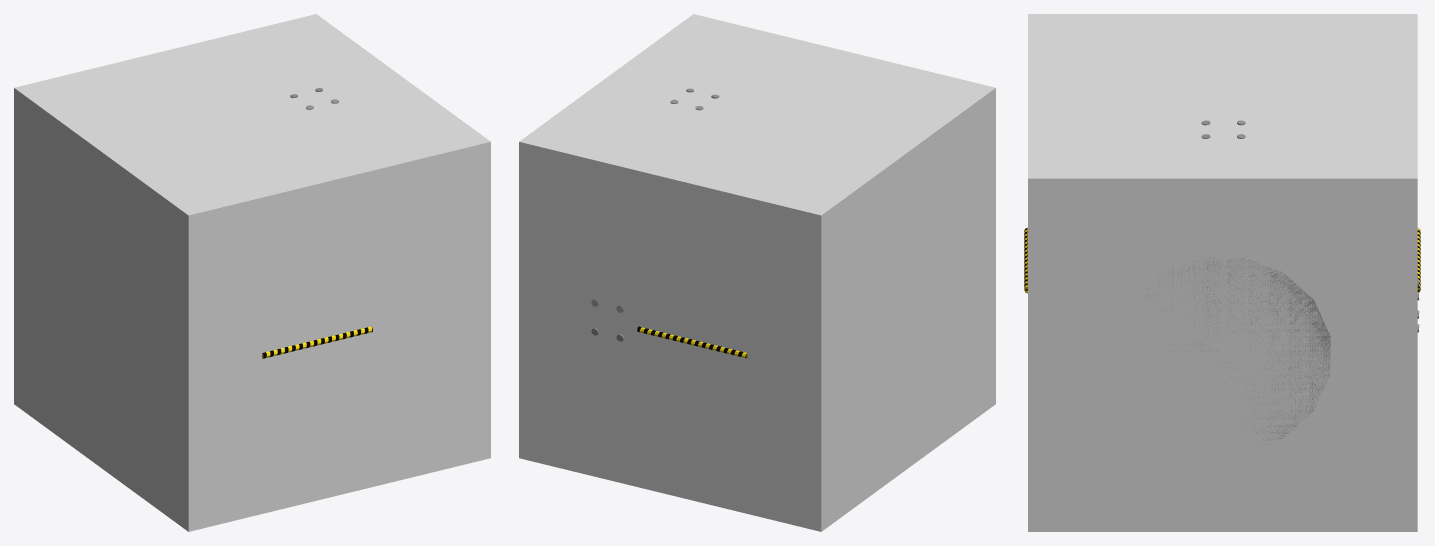
File: Module-1.glb
The picture shows the model from 3 angles, left to right: view 1: azimuth 30°, elevation 25°; view 2: azimuth 150°, elevation 25°; view 3: azimuth 270°, elevation 25°; orthographic projection. The views are drawn at different scales.
Visible parts, largest first — view 1: Cube, Bar; view 2: Cube, Bar.001; view 3: Cube, Protection.
Part boxes in pixels (x1,y1,x2,y2): Cube: [14, 14, 490, 531]; Bar: [262, 326, 372, 358]; Cube: [519, 14, 995, 531]; Bar.001: [637, 326, 747, 358]; Cube: [1028, 14, 1417, 531]; Protection: [1128, 257, 1330, 449].
Size of the model in its own units: 12 by 12.17 by 12.2.
Materials: 9 (4 with a texture image).
